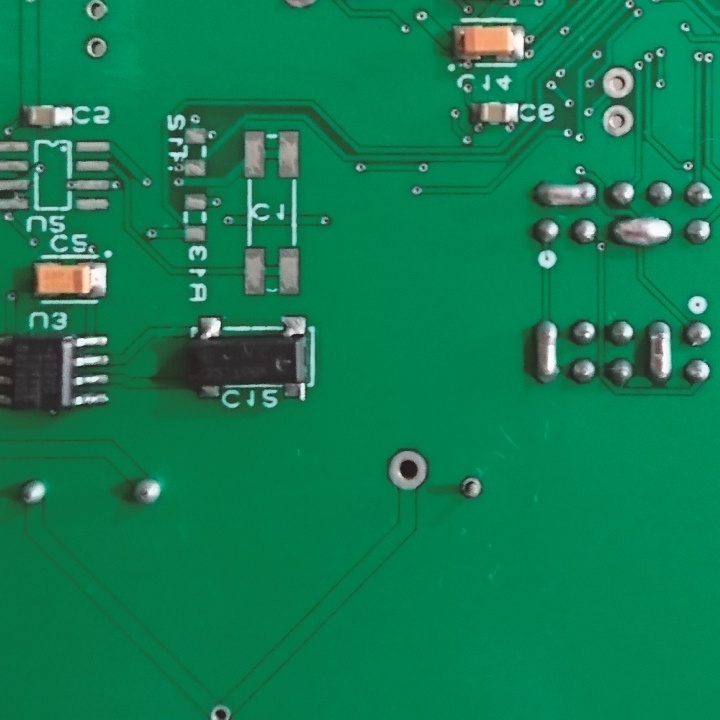F: (386, 446, 430, 491), (598, 102, 639, 140), (601, 63, 636, 101), (459, 473, 485, 503), (84, 35, 110, 60), (85, 1, 110, 26), (207, 699, 233, 720)
P: (529, 315, 561, 385), (609, 214, 674, 247), (530, 178, 597, 210), (646, 317, 673, 388)
